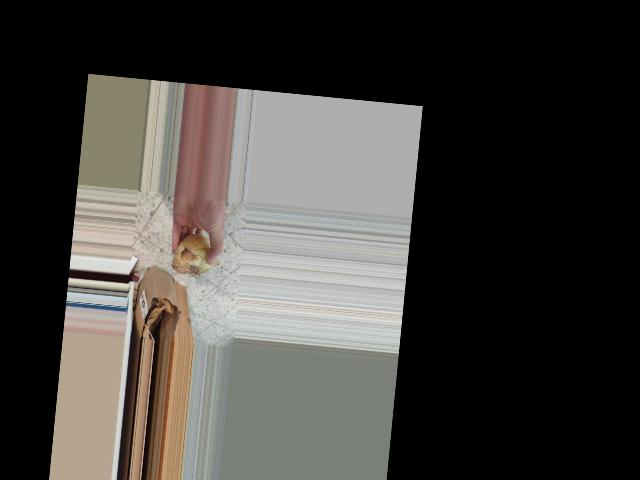onion: (170, 229, 219, 278)
